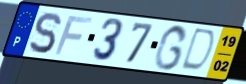3: (91, 17, 126, 64)
7: (124, 21, 157, 66)
D: (178, 26, 218, 74)
F: (52, 15, 95, 57)
G: (152, 24, 189, 72)
S: (27, 11, 63, 55)
